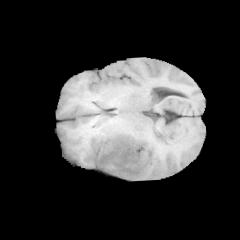glioma: (95, 128, 145, 179)
